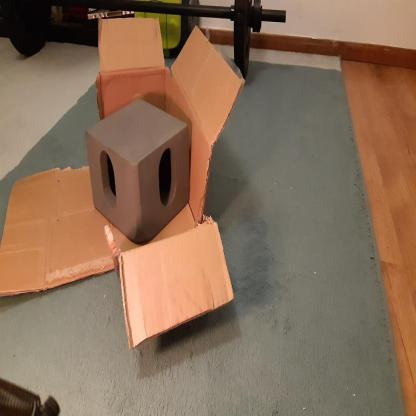CornerCasting: (83, 94, 192, 248)
